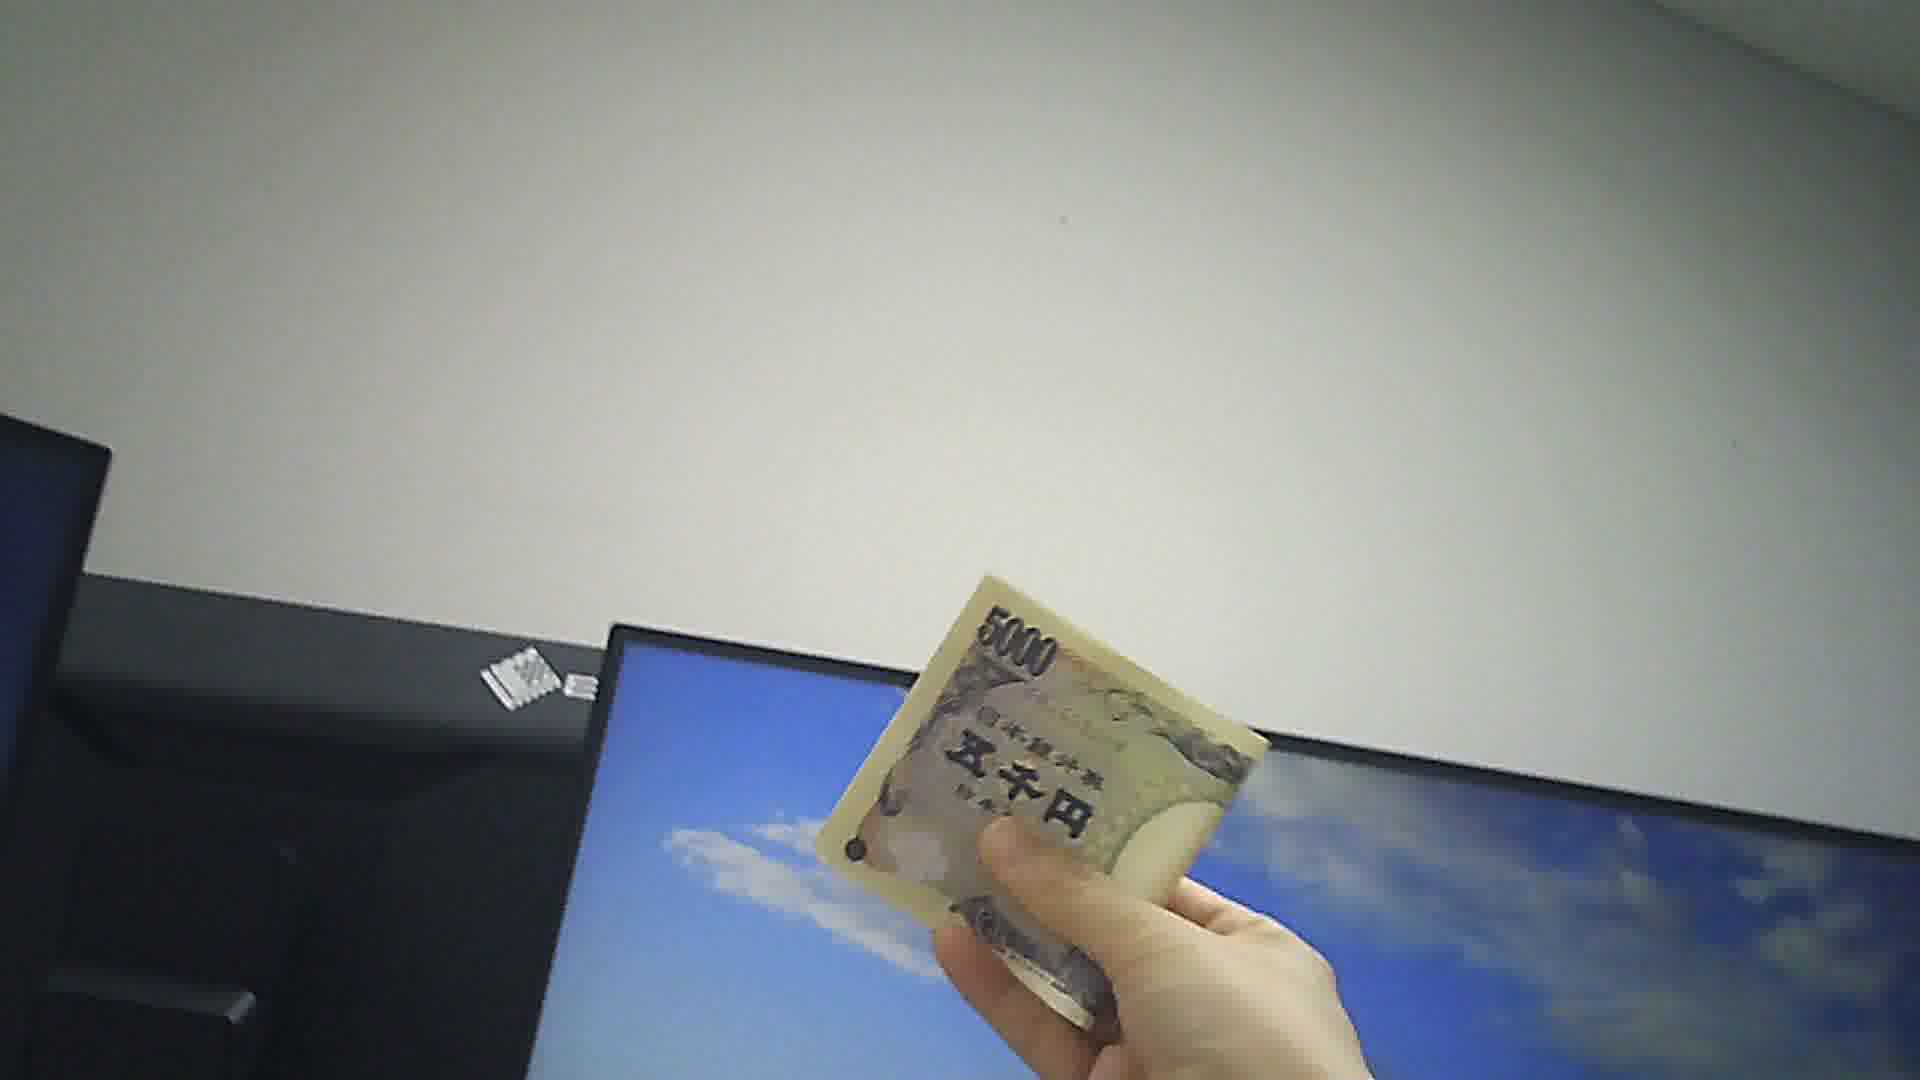5,000 Yen: (789, 574, 1269, 1029)
